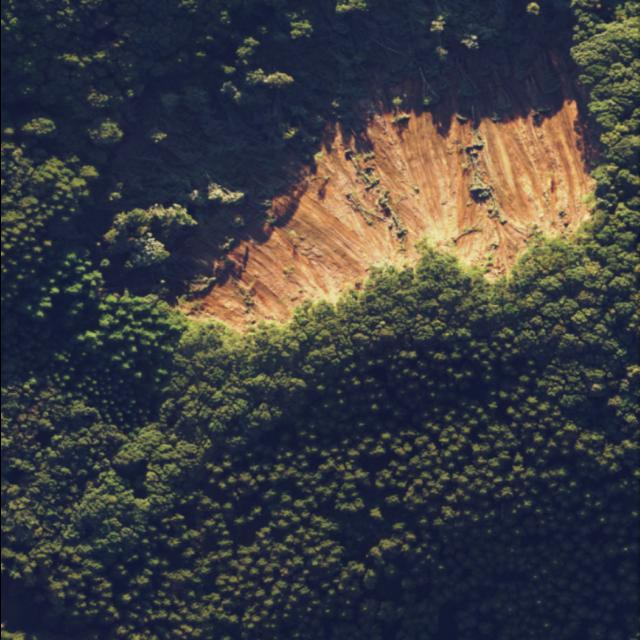landslide: (180, 74, 592, 332)
